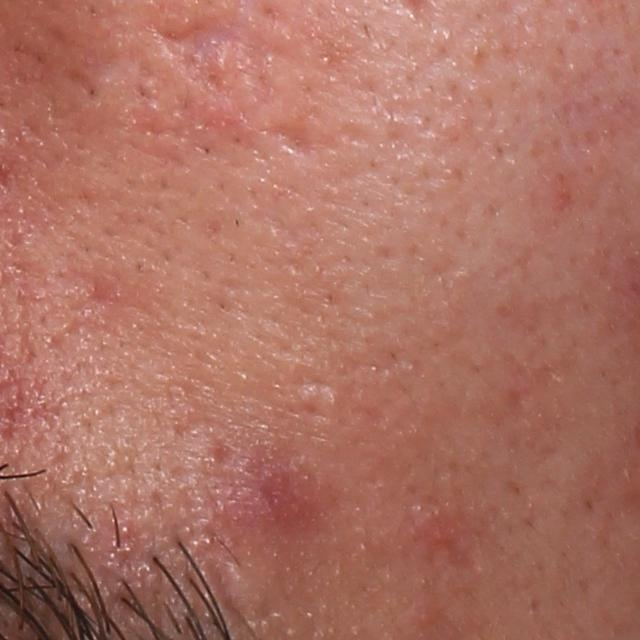atrophic_scar: (262, 121, 321, 164)
papule: (220, 453, 302, 530), (409, 505, 454, 559)
